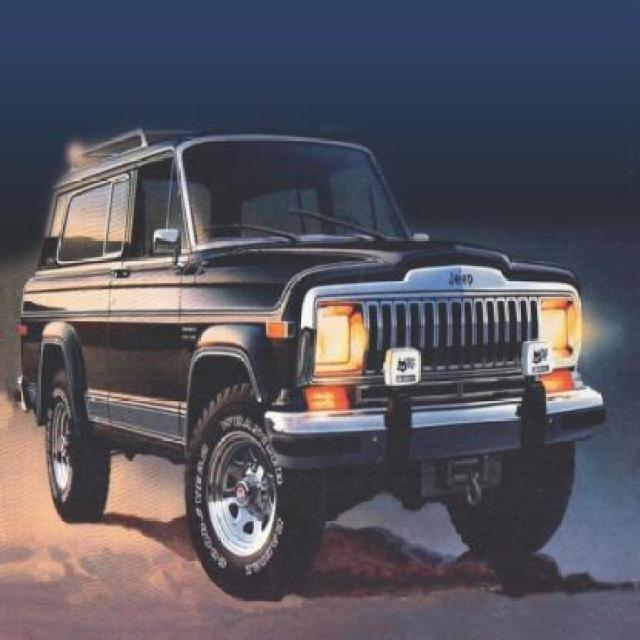Jeep: (21, 129, 596, 606)
